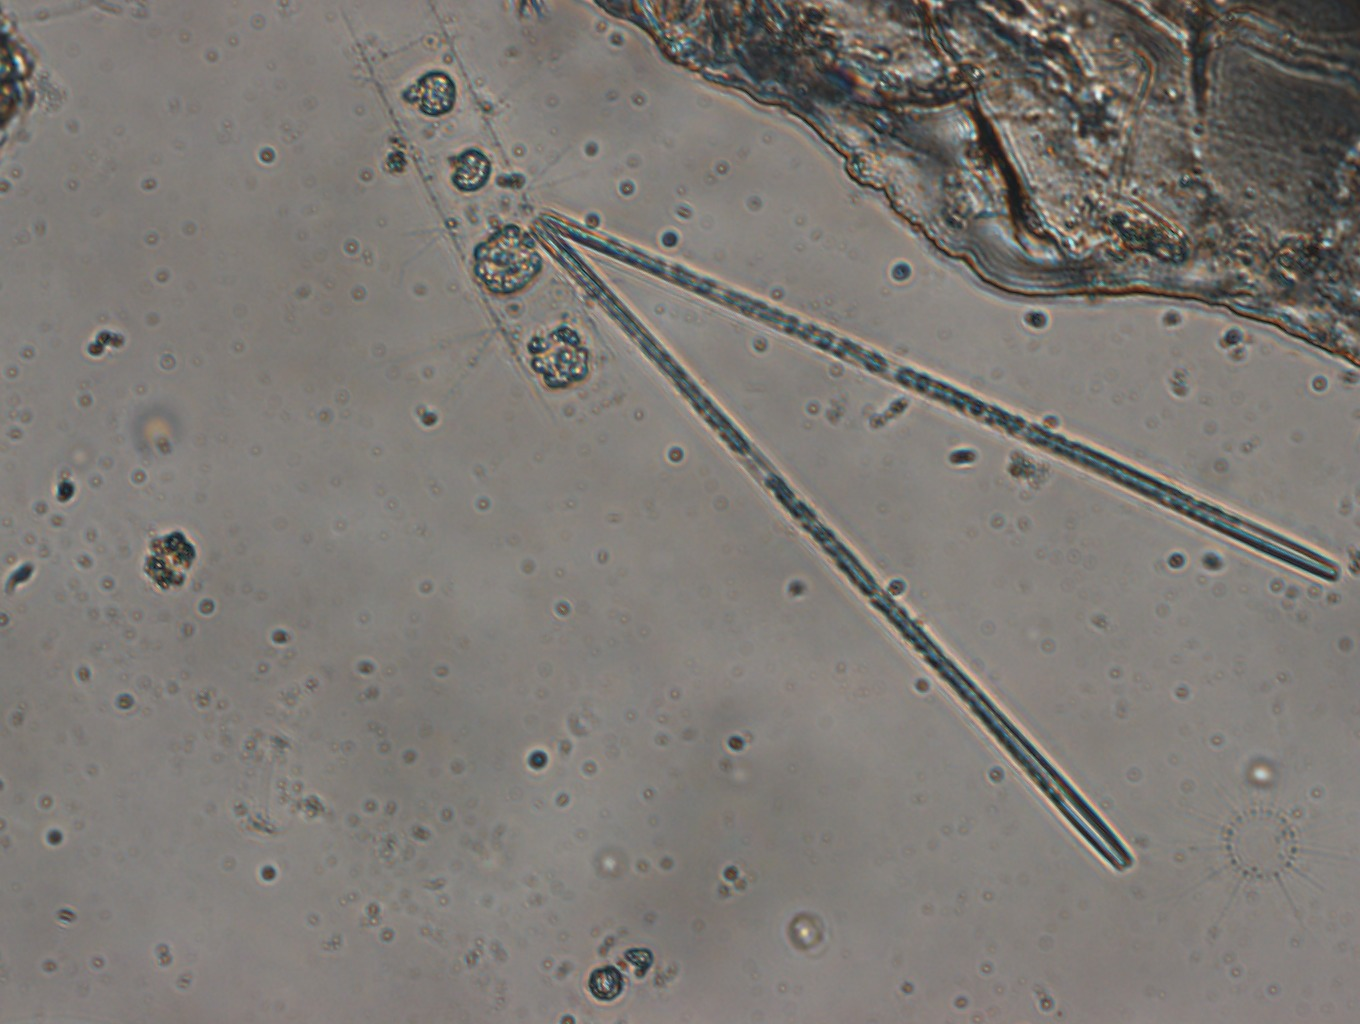chaetoceros: (330, 1, 633, 408)
thalassionema nitzschioides: (526, 209, 1345, 870)
